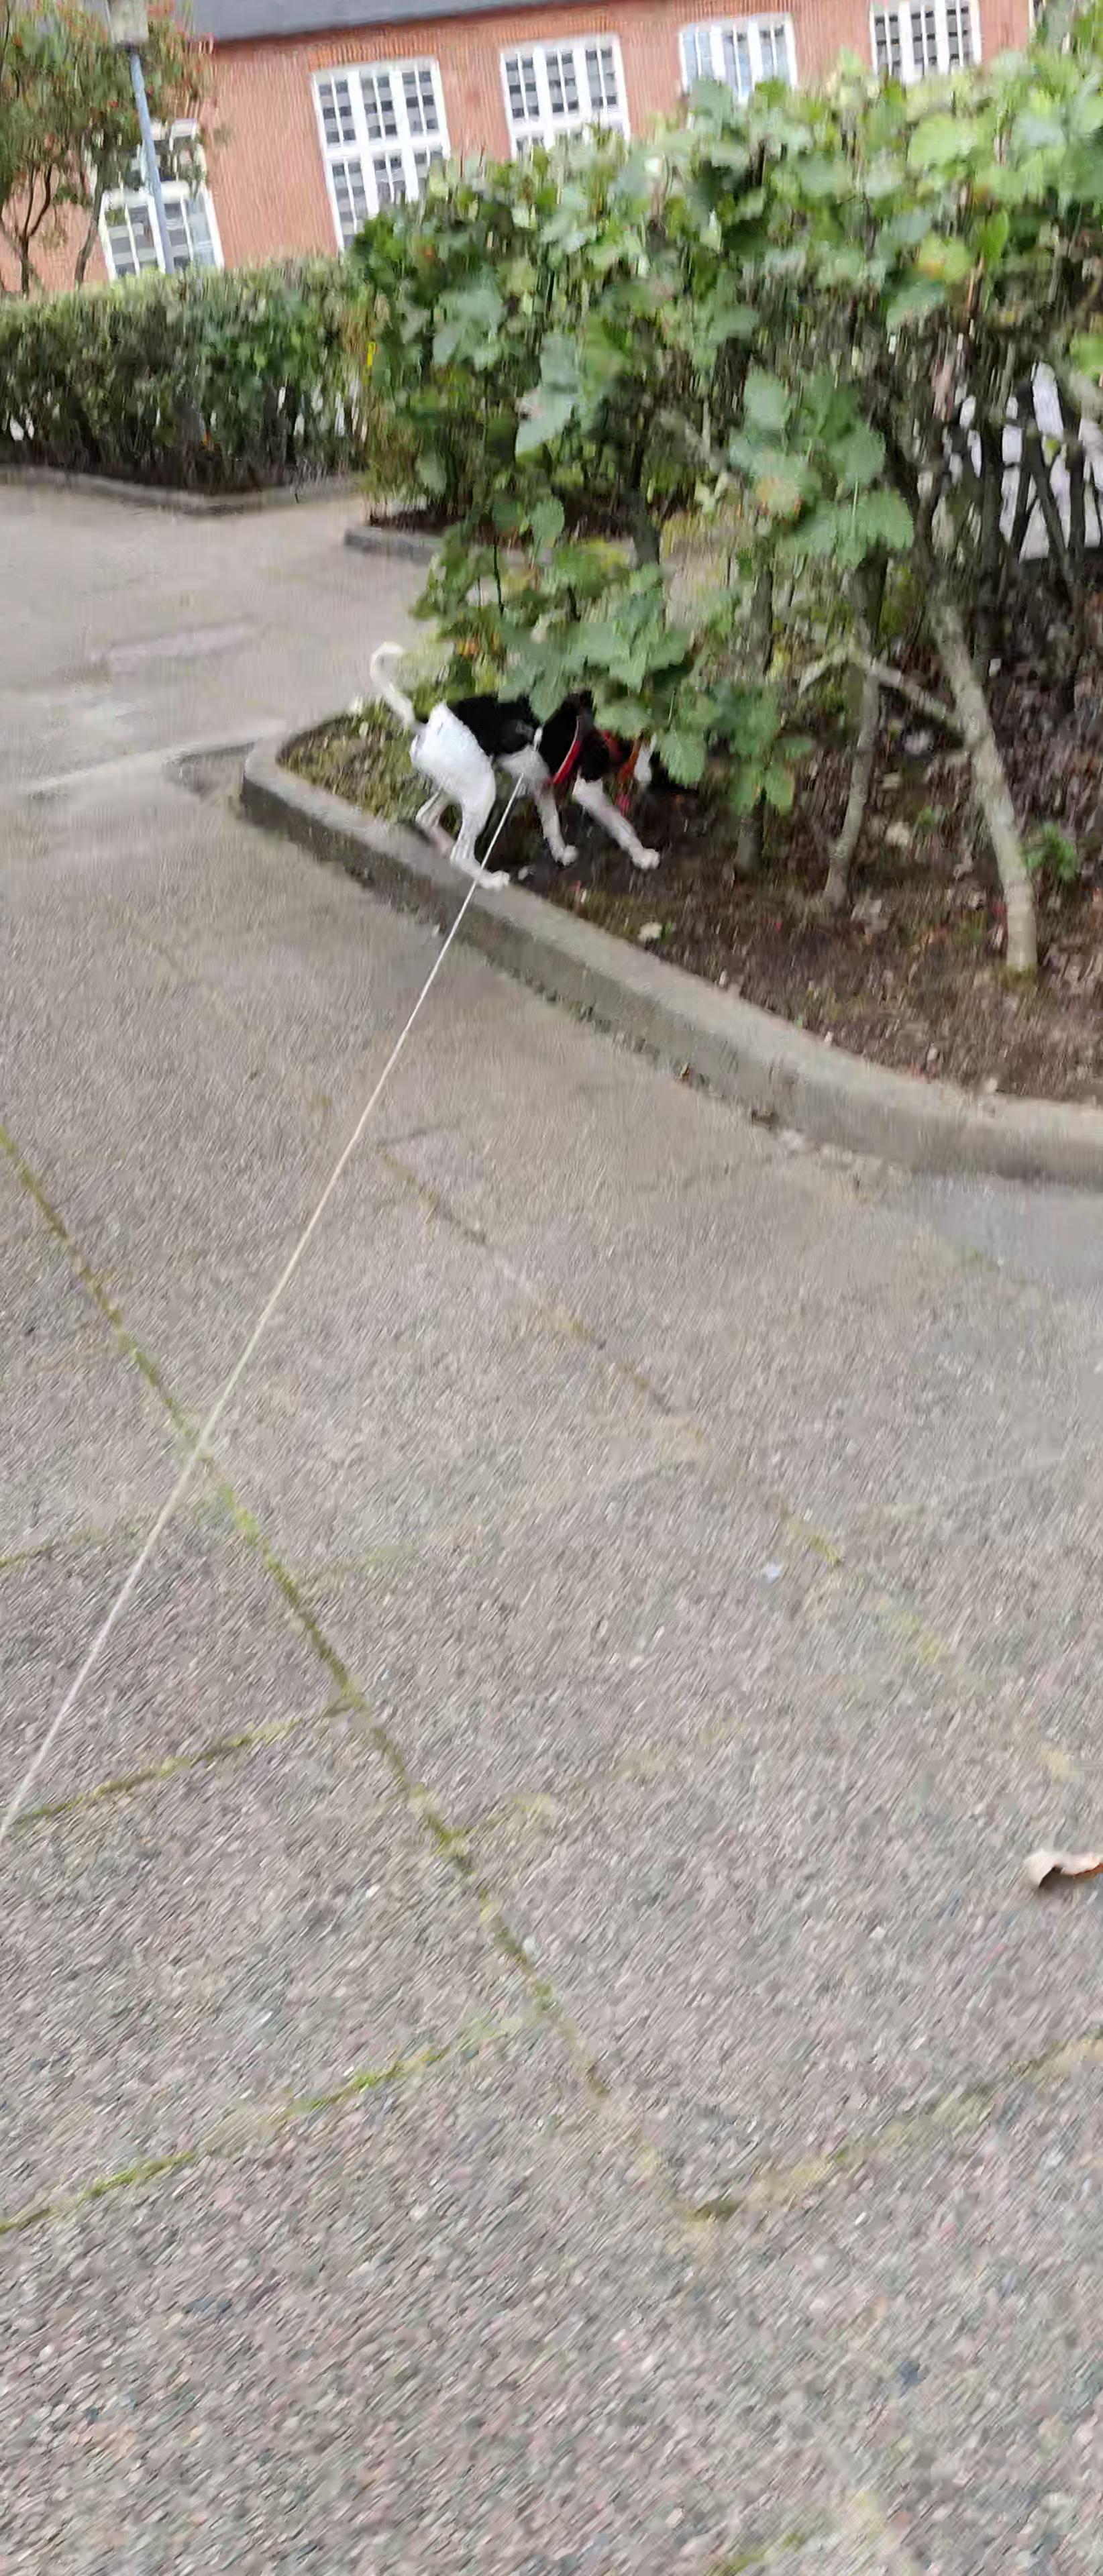Dog: (367, 639, 715, 892)
